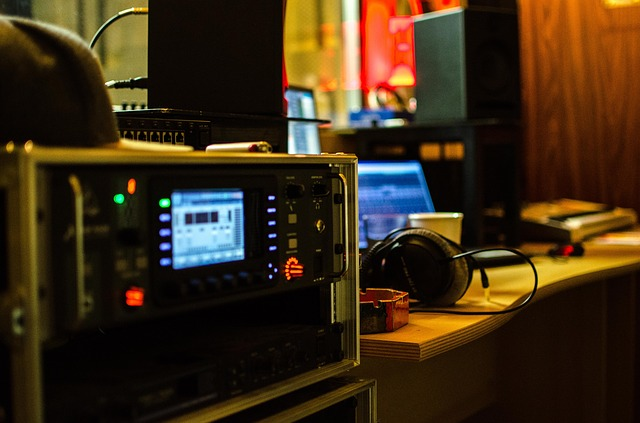headphones: (360, 227, 473, 309)
